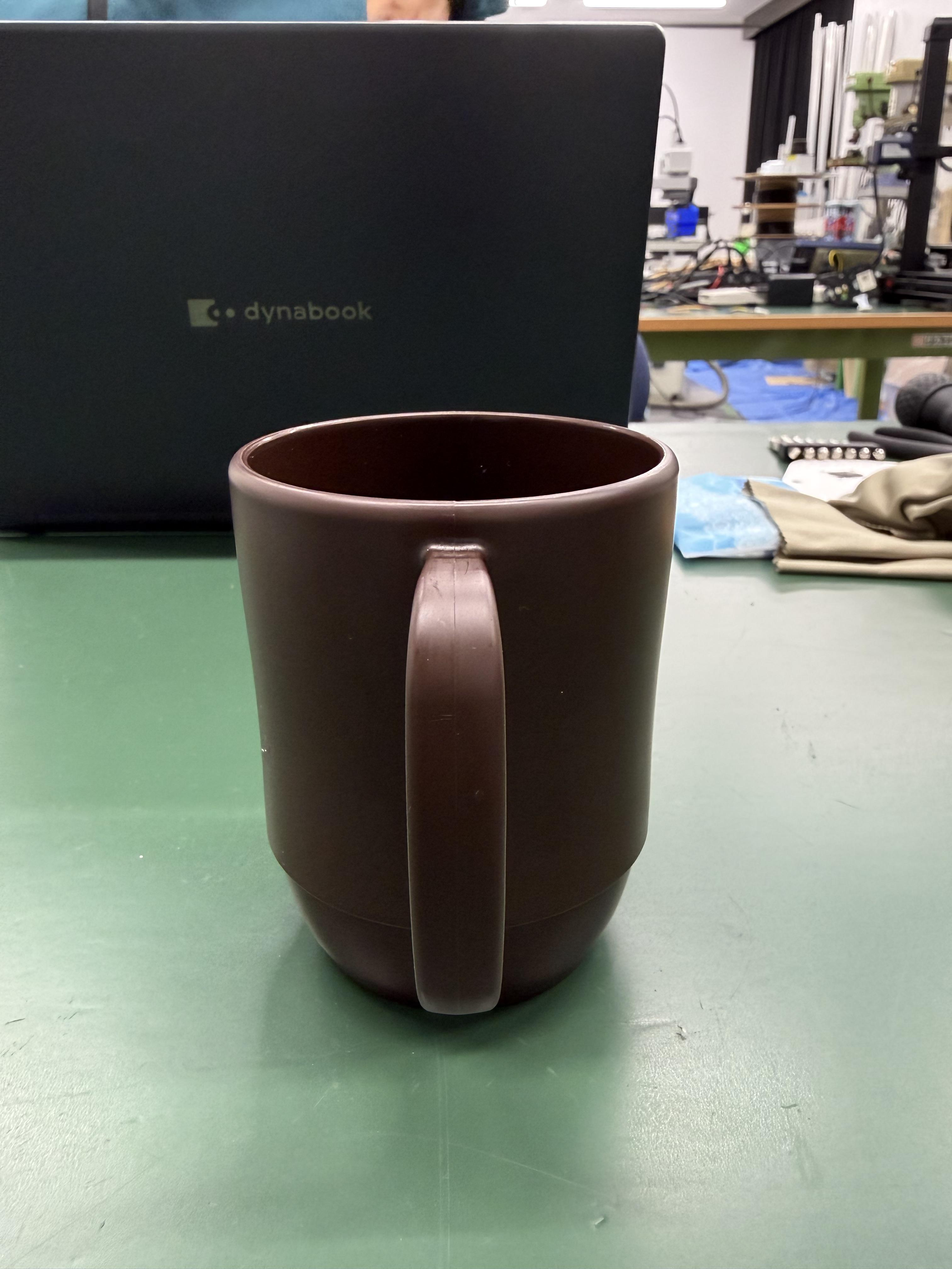mug-real100-3d100: (230, 411, 677, 1015)
